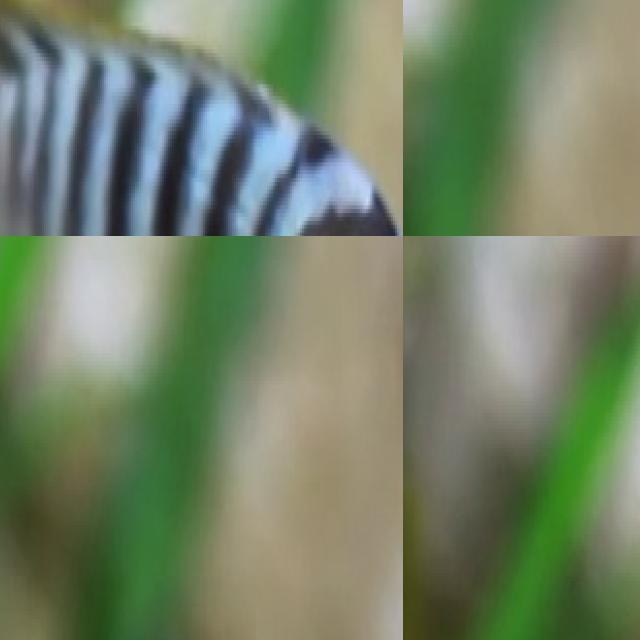fish: (0, 0, 403, 236)
